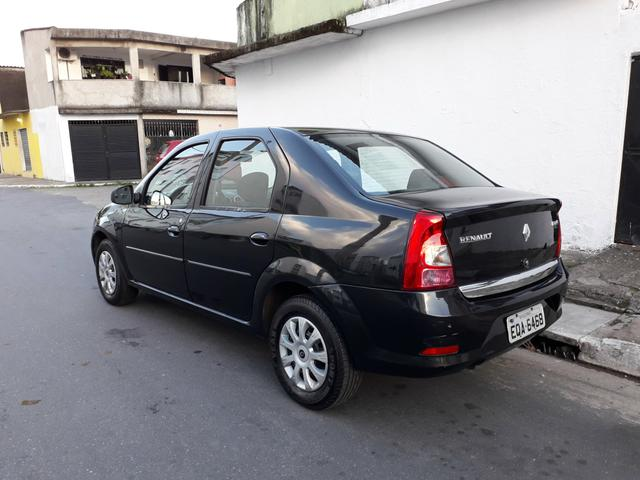Carro: (71, 124, 570, 421)
